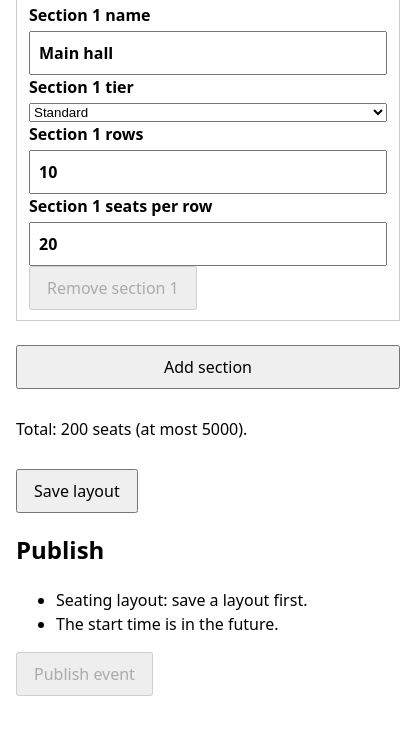
Test: the layout editor of a draft › checks the layout before it sends anything
The width and height of the screenshot is (417, 737).
(page scrolled)
Click the button "Save layout": click(77, 491) [16,469,138,513]
(page scrolled)
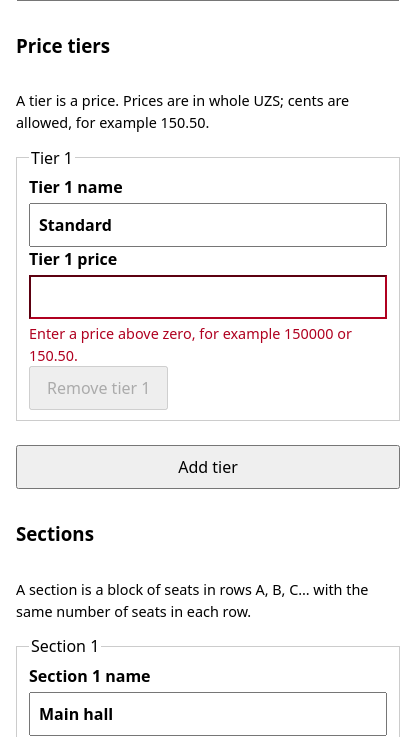
Check: the text "Enter a price above zero, for example 150000 or 150.50." is shown, box [29,323,387,366]
